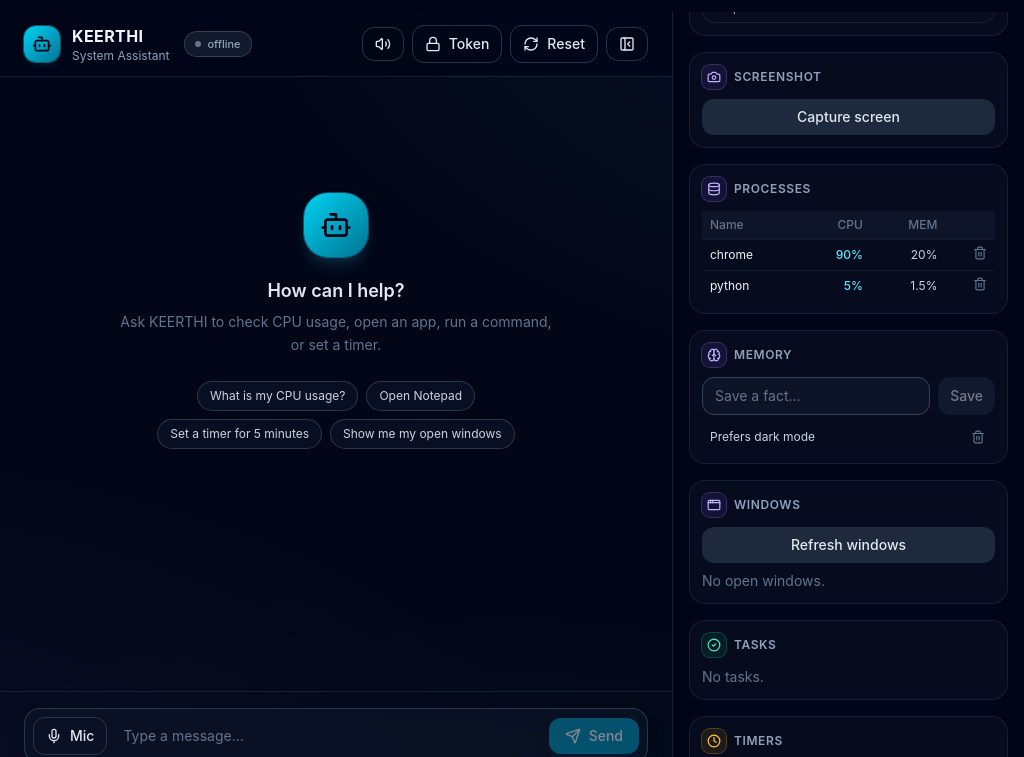
Test case: App › saves and forgets long-term memory facts
(page scrolled)
Expected: the text "Prefers dark mode" is shown, [710,429,815,444]
Step 1. Type "Call me Kai" into the field with placeholder "Save a fact…" → (816, 396), box [702,377,930,415]
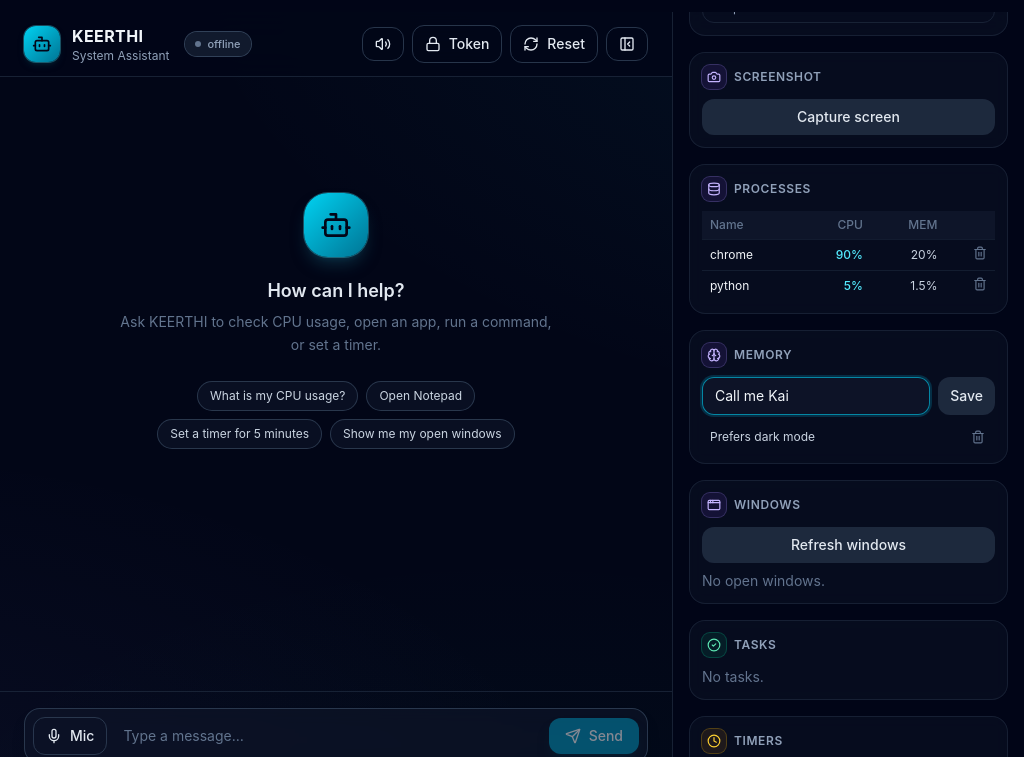
Step 2. Click the button "Save" → (967, 396), box [938,377,995,415]
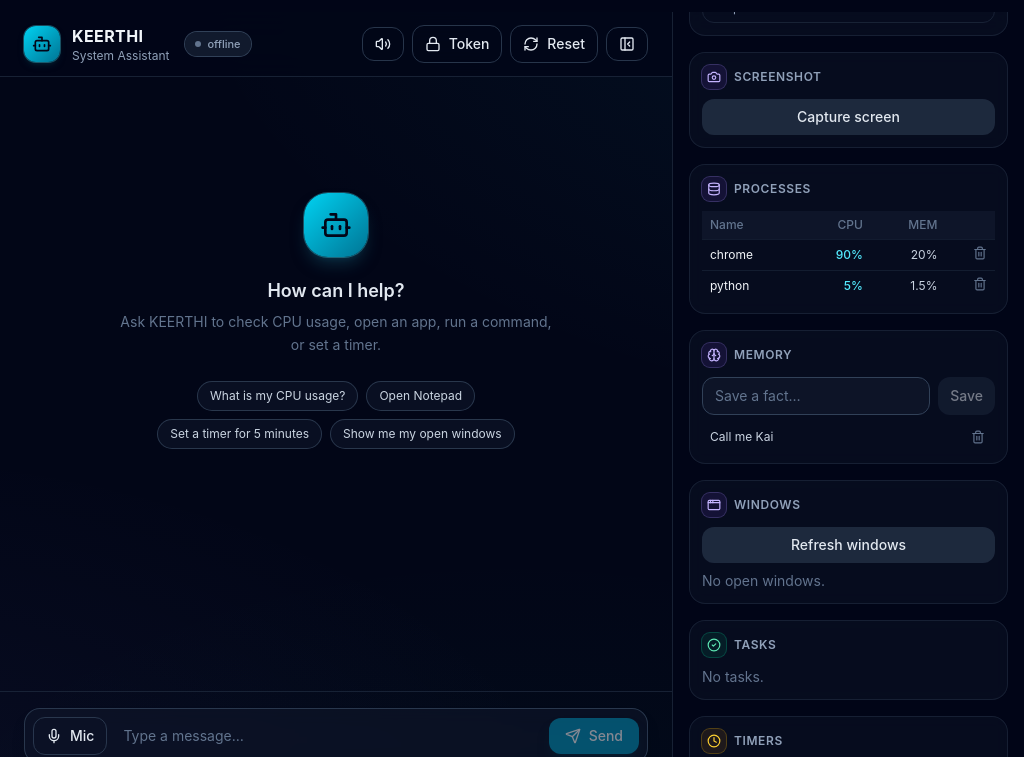
Result: the text "Call me Kai" is shown at [710,429,773,444]
Step 3. Click the button named "Forget fact" → (978, 437), box [971,430,985,444]
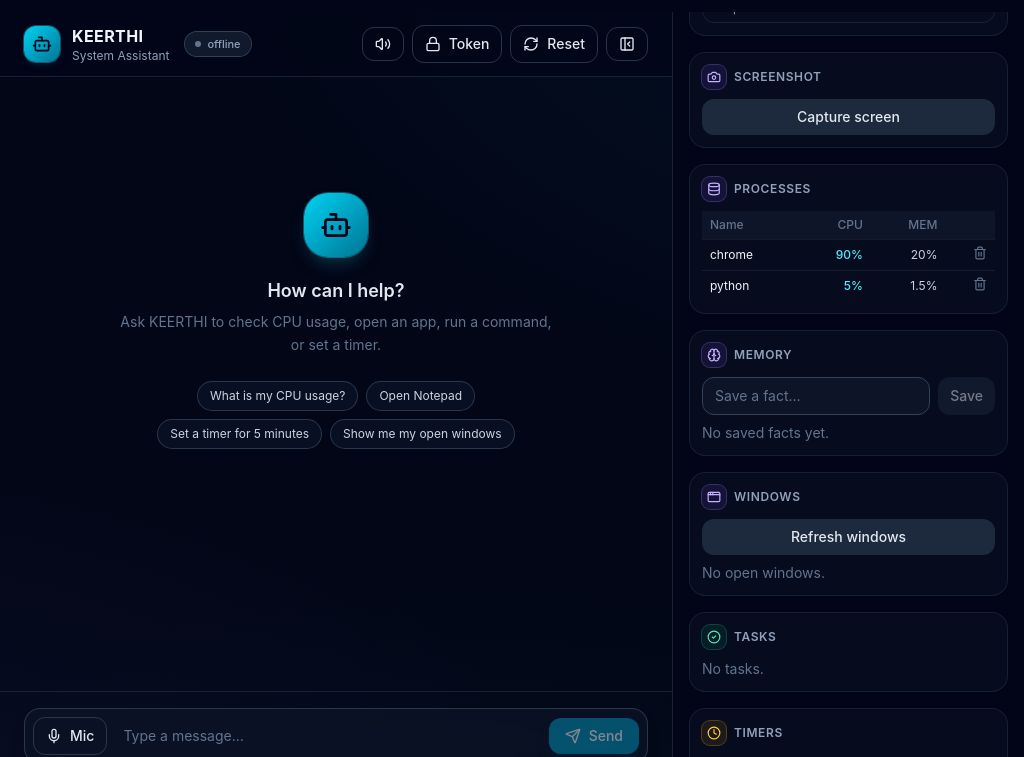
Result: the text "No saved facts yet." is shown at [702,424,829,441]
